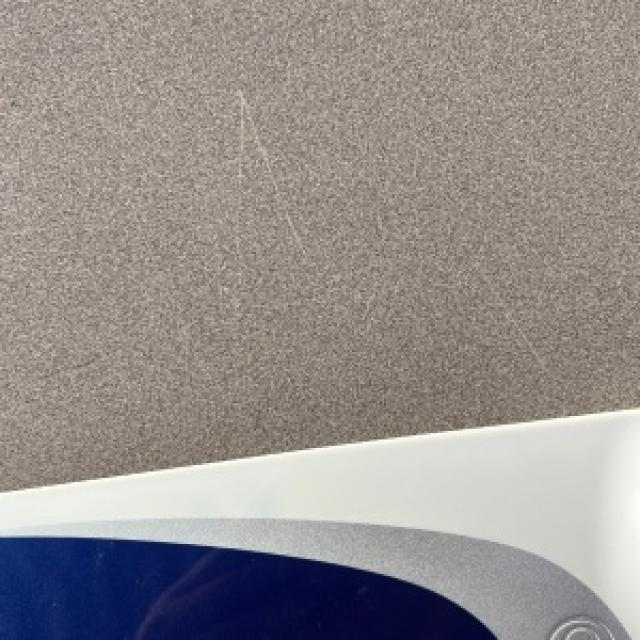healthy: (0, 407, 638, 638)
